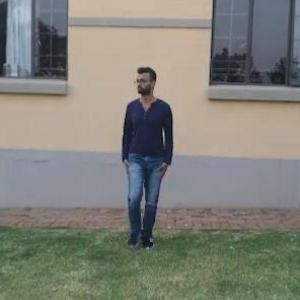follow: (112, 54, 180, 266)
